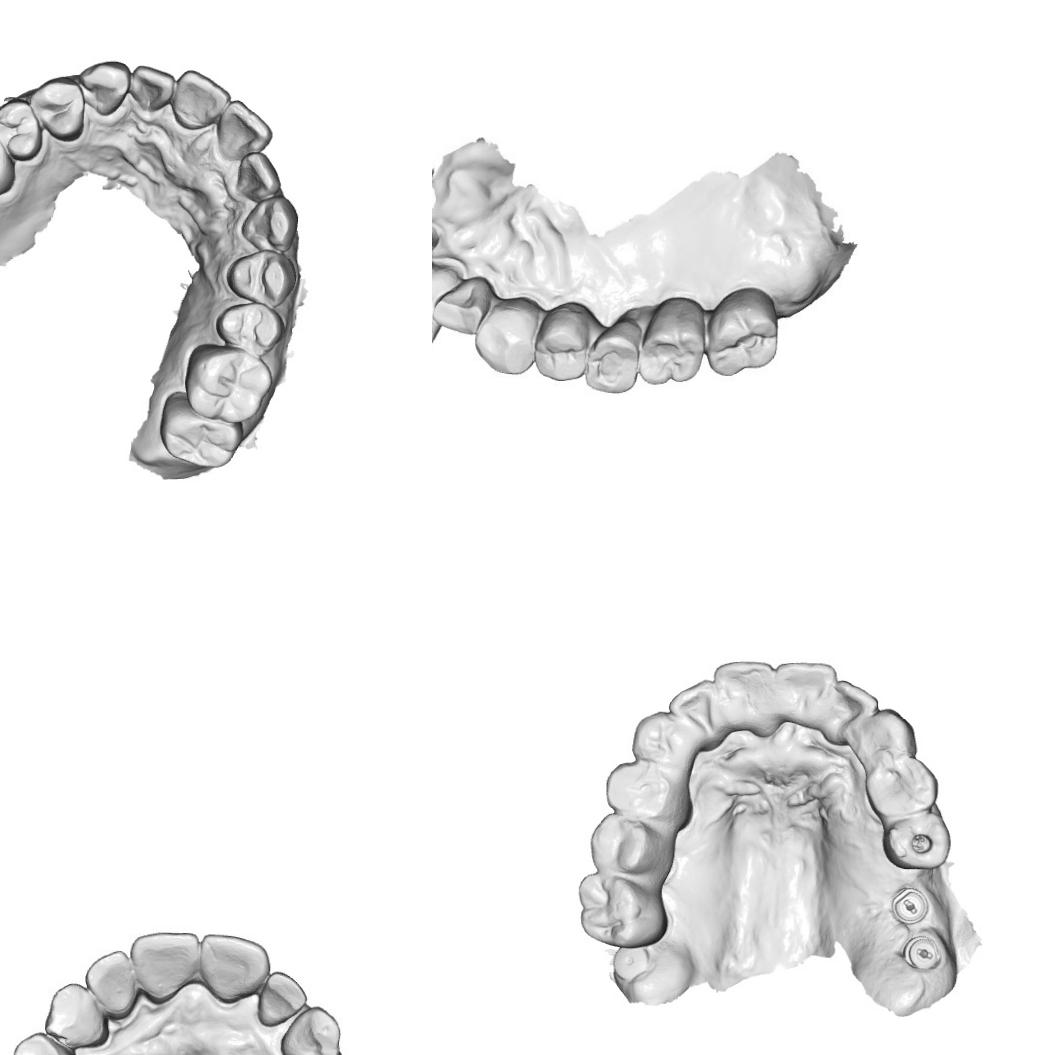canine: (472, 295, 543, 376), (852, 706, 920, 767), (46, 981, 102, 1045), (241, 195, 302, 253), (628, 709, 689, 767), (278, 1004, 345, 1055), (79, 59, 132, 117)
implant: (610, 944, 650, 984)
implant_minus: (890, 885, 931, 926), (902, 934, 942, 973)
incisor: (126, 929, 204, 1001), (710, 657, 775, 734), (204, 930, 268, 1001), (774, 659, 838, 727), (821, 678, 879, 748), (666, 677, 723, 745), (83, 946, 136, 1018), (171, 67, 231, 130), (219, 99, 275, 160), (257, 968, 310, 1024), (432, 266, 459, 358), (129, 64, 177, 114), (442, 278, 489, 329), (238, 150, 284, 202)
molar: (182, 341, 276, 424), (702, 285, 781, 379), (575, 872, 670, 950), (156, 389, 245, 470), (0, 118, 17, 209)
premolar: (633, 299, 708, 387), (586, 810, 673, 876), (532, 299, 596, 385), (862, 752, 940, 820), (583, 315, 645, 395), (880, 808, 953, 872), (604, 761, 680, 820), (225, 249, 300, 308), (213, 298, 286, 357), (28, 76, 86, 143), (0, 100, 44, 163), (10, 1034, 86, 1055)
